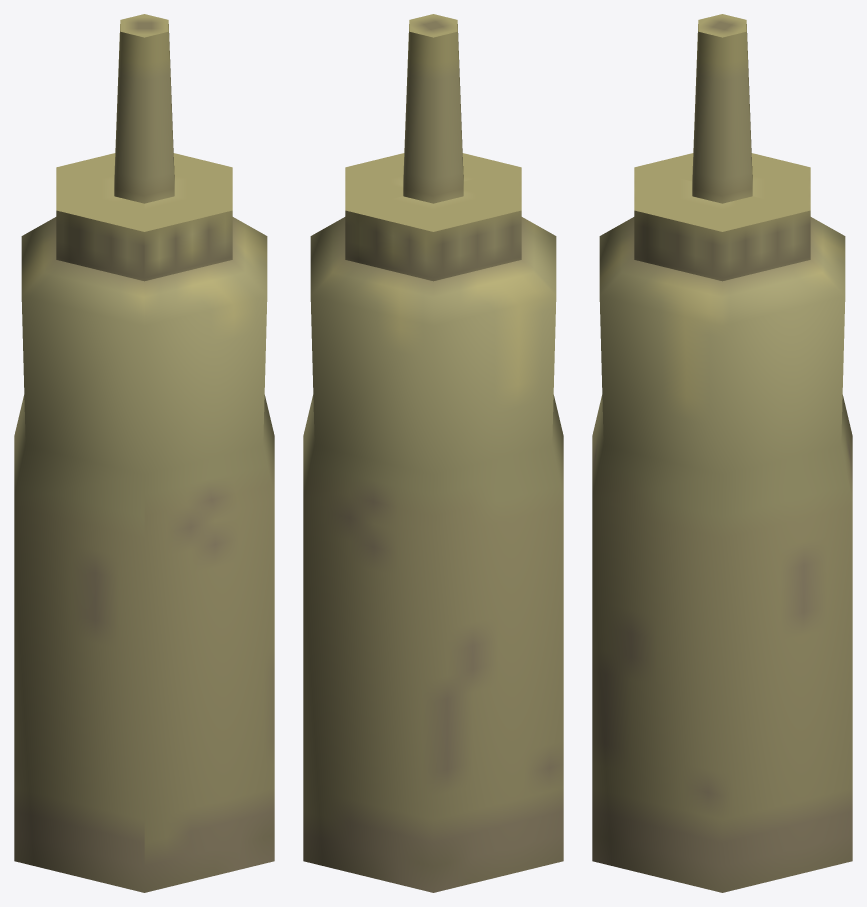
The model's file is Pixel_Misc_S_0041.fbx.
The picture shows the model from 3 angles, left to right: view 1: azimuth 30°, elevation 25°; view 2: azimuth 150°, elevation 25°; view 3: azimuth 270°, elevation 25°; orthographic projection.
Visible parts, largest first — view 1: Pixel_Misc_S_0041; view 2: Pixel_Misc_S_0041; view 3: Pixel_Misc_S_0041.
Boxes of the visible parts, x1,y1,x2,y2 form: Pixel_Misc_S_0041: [14, 14, 274, 892]; Pixel_Misc_S_0041: [303, 14, 563, 892]; Pixel_Misc_S_0041: [592, 14, 852, 892].
Size of the model in its own units: 14 by 41.25 by 12.12.
